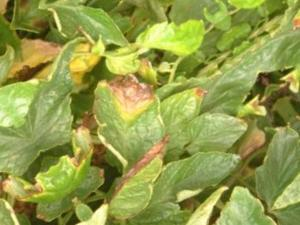Tomato mold leaf: (43, 50, 214, 225), (102, 125, 256, 225), (227, 114, 300, 212), (43, 0, 136, 75)
